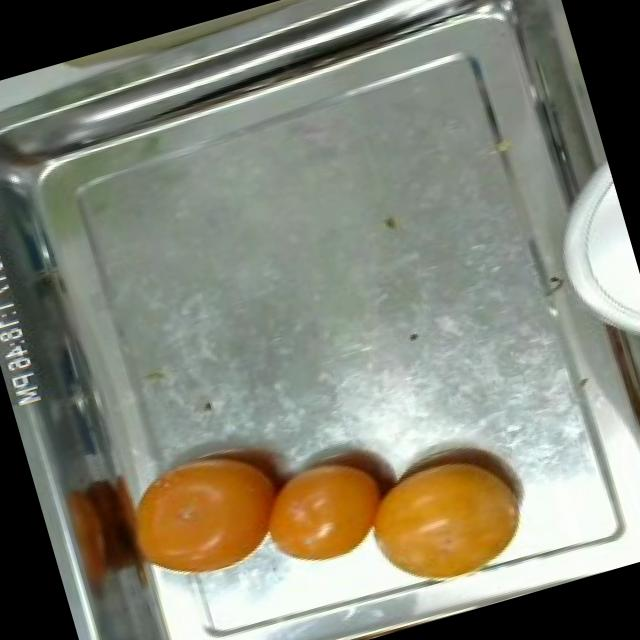Fruit: (334, 417, 550, 600), (109, 420, 307, 600), (239, 428, 410, 584), (35, 449, 178, 604)
